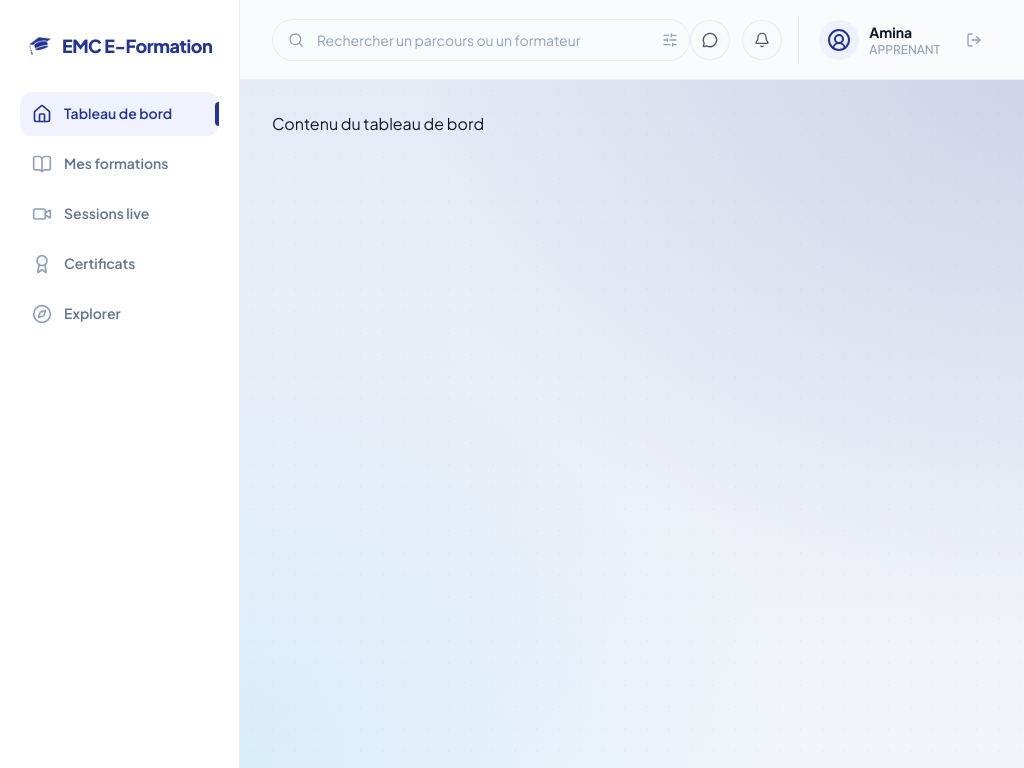
DashboardLayout › replie et déplie la barre latérale
Expected: the text "EMC E-Formation" is shown, [62,32,212,60]
Expected: the text "Mes formations" is shown, [64,154,168,174]
Click the button titled "Réduire la barre": (120, 46) [20,24,219,68]
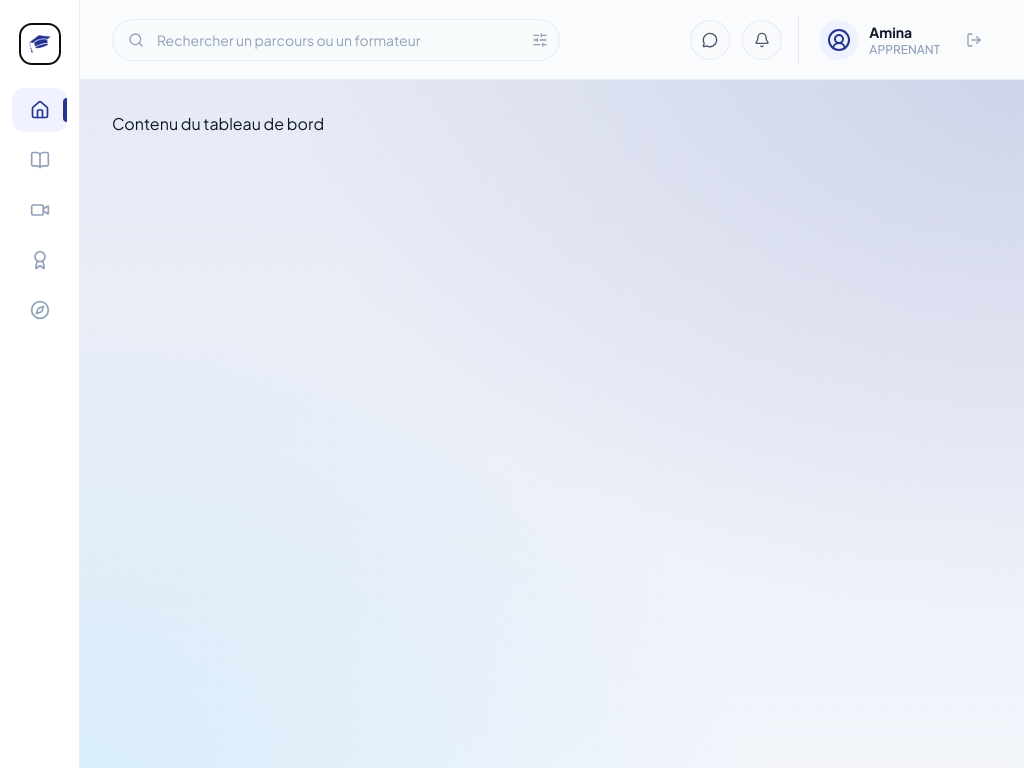
Now the text "EMC E-Formation" is gone
Now the text "Mes formations" is gone
Click the button titled "Agrandir la barre": (40, 44) [20,24,60,64]
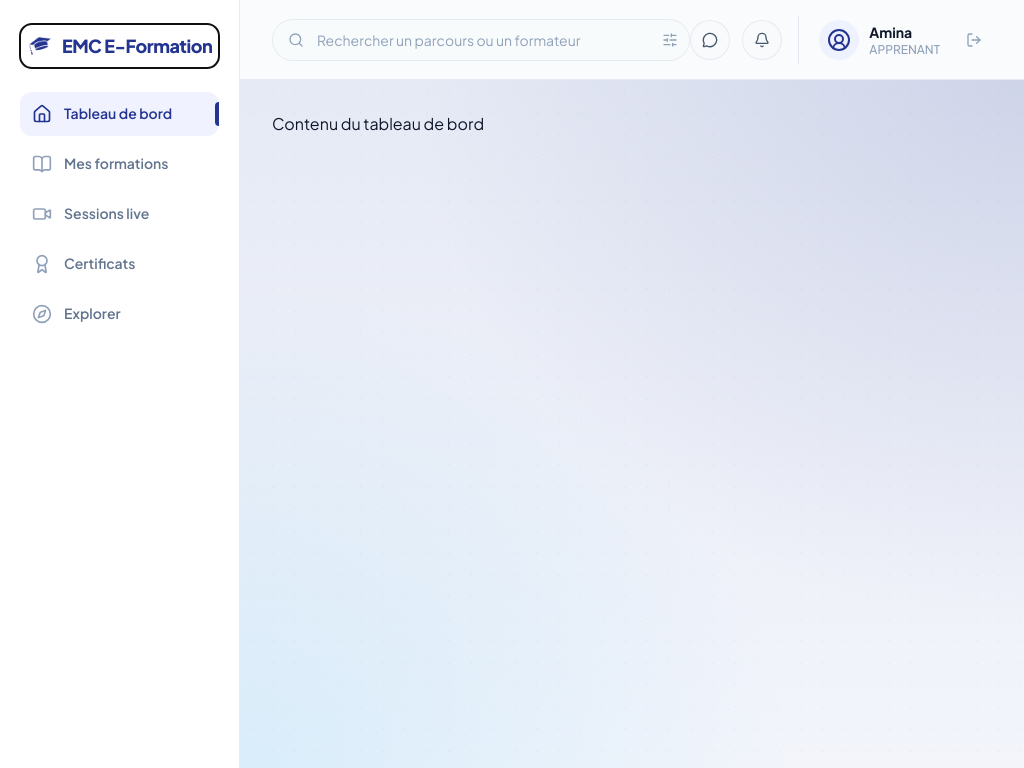
Now the text "EMC E-Formation" is shown, box [62,32,212,60]
Now the text "Mes formations" is shown, box [64,154,168,174]
